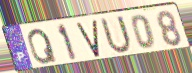0: (130, 14, 158, 51)
1: (56, 23, 79, 63)
8: (156, 9, 184, 48)
Q: (26, 27, 58, 66)
U: (98, 15, 133, 56)
V: (74, 18, 101, 59)
